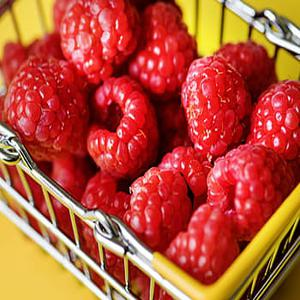duino: (30, 9, 295, 211)
